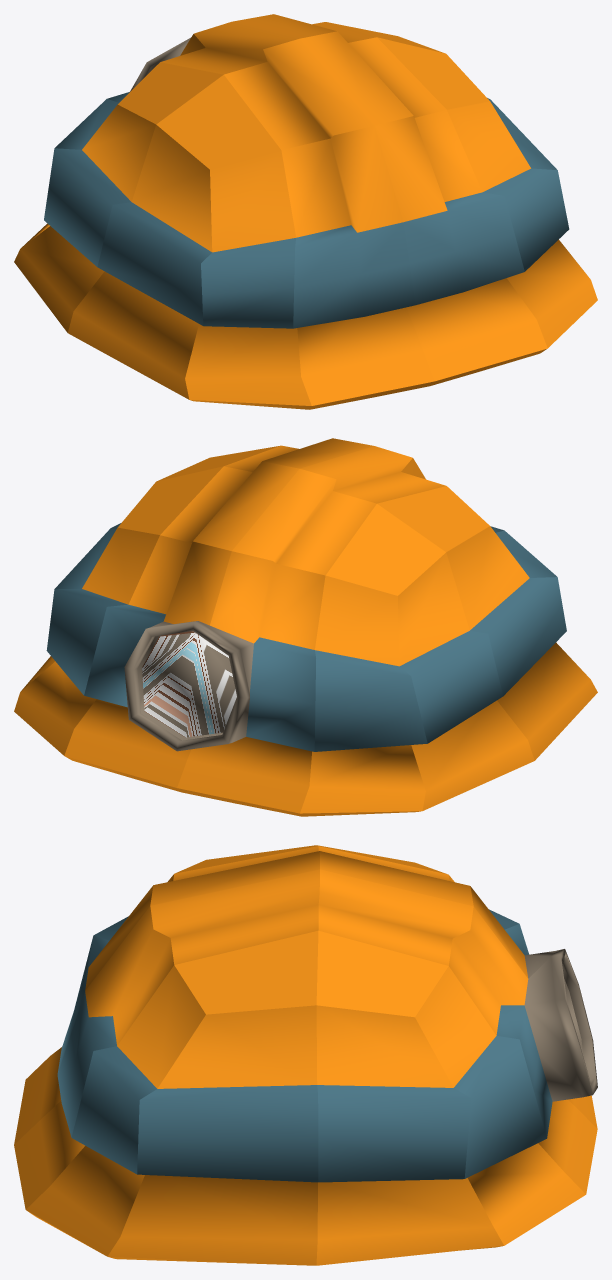
Rendered from Casco.fbx.
3 views of the same model, one above another, from view 1: azimuth 30°, elevation 25°; view 2: azimuth 150°, elevation 25°; view 3: azimuth 270°, elevation 25° (orthographic). The views are drawn at different scales.
Visible parts, largest first — view 1: Casco; view 2: Casco; view 3: Casco.
Part boxes in pixels (<box>): Casco: <box>14,14,597,409</box>; Casco: <box>14,438,597,816</box>; Casco: <box>14,845,597,1265</box>.
Size of the model in its own units: 50.74 by 26.17 by 48.55.
